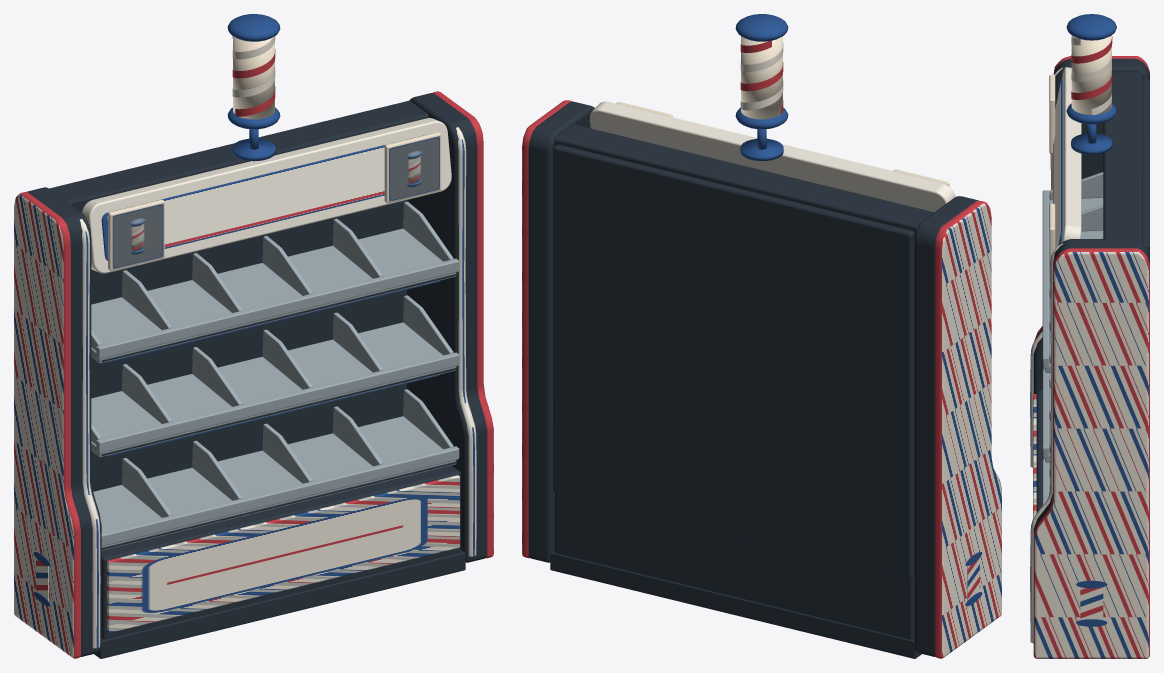
The model's file is TH_BARBERSHOP.fbx.
3 views of the same model, side by side, from view 1: azimuth 30°, elevation 25°; view 2: azimuth 150°, elevation 25°; view 3: azimuth 270°, elevation 25° (orthographic). The views are drawn at different scales.
Visible parts, largest first — view 1: BaseFrontInset, Left_PaintedPanel, BackPanel.001, Right_StructuralWall, Tray_01, Tray_02, Tray_03, HeaderFace, HeaderBorder, TopCrossRail, Left_StructuralWall, ClosedSolidBase (+36 smaller); view 2: BackPanel.001, Left_PaintedPanel, ClosedSolidBase, Right_StructuralWall, HeaderBorder, Left_StructuralWall, TopCrossRail, LowerPlinth, Right_PaintedPanel, Barber porcelain cylinder, Chrome barber cap.001, TopperMount (+1 smaller); view 3: Right_PaintedPanel, TopCrossRail, HeaderBorder, Barber porcelain cylinder, Left_StructuralWall, FrontLip_01, HeaderFace, BackPanel.001, RightHousing, Right_StructuralWall, Chrome barber cap.001, ClosedSolidBase (+18 smaller).
Part boxes in pixels (x1,y1,x2,y2): BaseFrontInset: (107, 475, 459, 633); Left_PaintedPanel: (14, 192, 80, 658); BackPanel.001: (91, 200, 406, 491); Right_StructuralWall: (407, 93, 487, 562); Tray_01: (91, 228, 456, 363); Tray_02: (91, 322, 456, 457); Tray_03: (93, 416, 456, 550); HeaderFace: (101, 134, 426, 260); HeaderBorder: (82, 118, 451, 273); TopCrossRail: (49, 100, 428, 212); Left_StructuralWall: (27, 187, 101, 656); ClosedSolidBase: (101, 465, 460, 639); BackPanel.001: (553, 144, 914, 578); Left_PaintedPanel: (935, 201, 1001, 658); ClosedSolidBase: (555, 492, 914, 639); Right_StructuralWall: (528, 101, 594, 562); HeaderBorder: (590, 101, 955, 212); Left_StructuralWall: (914, 196, 978, 656); TopCrossRail: (554, 124, 933, 238); LowerPlinth: (550, 550, 921, 658); Right_PaintedPanel: (522, 100, 572, 558); Barber porcelain cylinder: (741, 36, 782, 119); Chrome barber cap.001: (735, 14, 788, 41); TopperMount: (740, 138, 783, 161); Right_PaintedPanel: (1033, 248, 1149, 658); TopCrossRail: (1103, 72, 1142, 241); HeaderBorder: (1061, 67, 1081, 242); Barber porcelain cylinder: (1071, 35, 1111, 114); Left_StructuralWall: (1033, 58, 1149, 393); FrontLip_01: (1042, 190, 1049, 368); HeaderFace: (1053, 79, 1062, 248); BackPanel.001: (1142, 79, 1149, 254); RightHousing: (1030, 243, 1062, 643); Right_StructuralWall: (1033, 239, 1149, 533); Chrome barber cap.001: (1066, 14, 1116, 40); ClosedSolidBase: (1036, 390, 1042, 513).
Size of the model in its own units: 3.62 by 4.68 by 0.9273.
